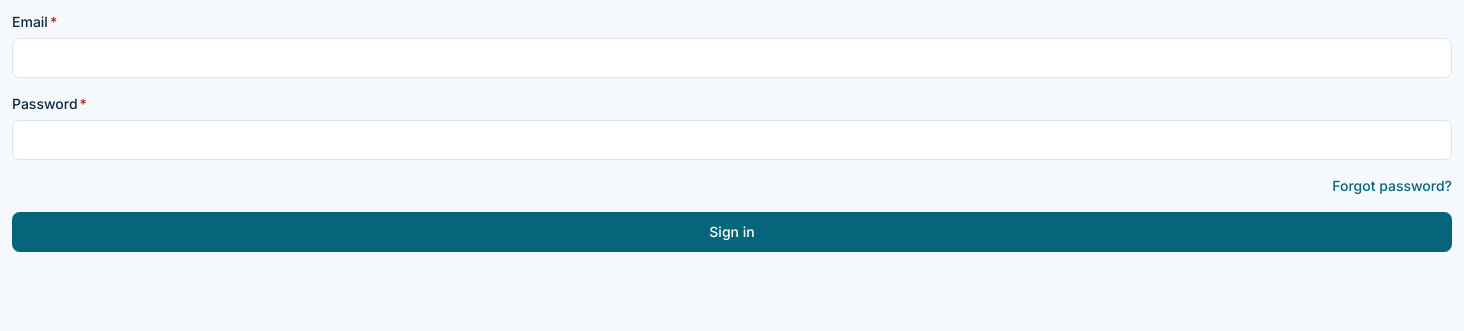
Scenario: LoginForm › shows the server's generic credential error
The width and height of the screenshot is (1464, 331).
Type "sita@example.com" into the field labelled "Email*" at (732, 58), box [12,38,1452,78]
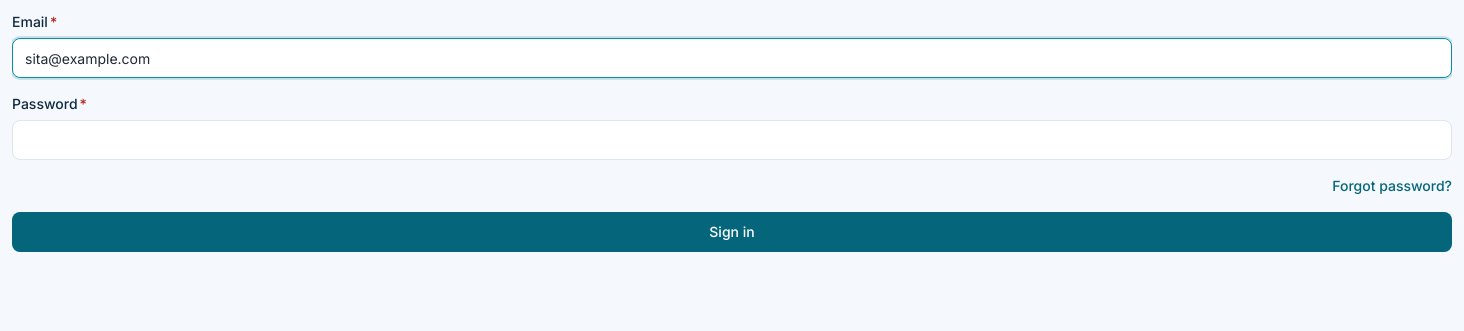
Type "wrong-password" into the password field labelled "Password*" at (732, 140), box [12,120,1452,160]
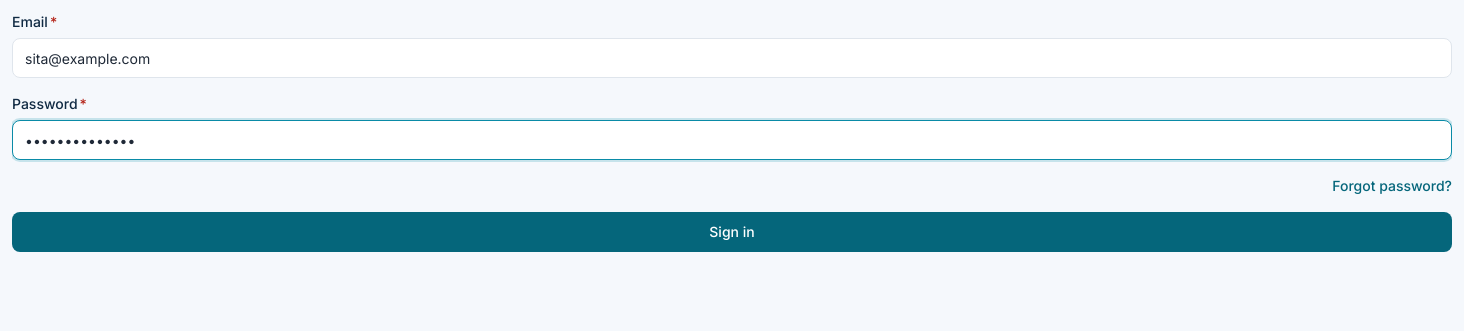
Click the button "Sign in" at (732, 232), box [12,212,1452,252]
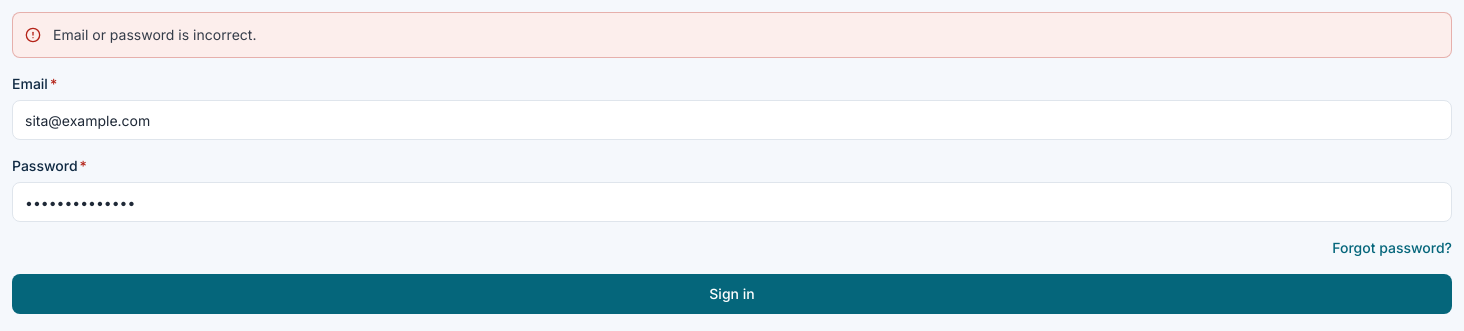
Check: the message reads "Email or password is incorrect.", box [53,26,256,43]
